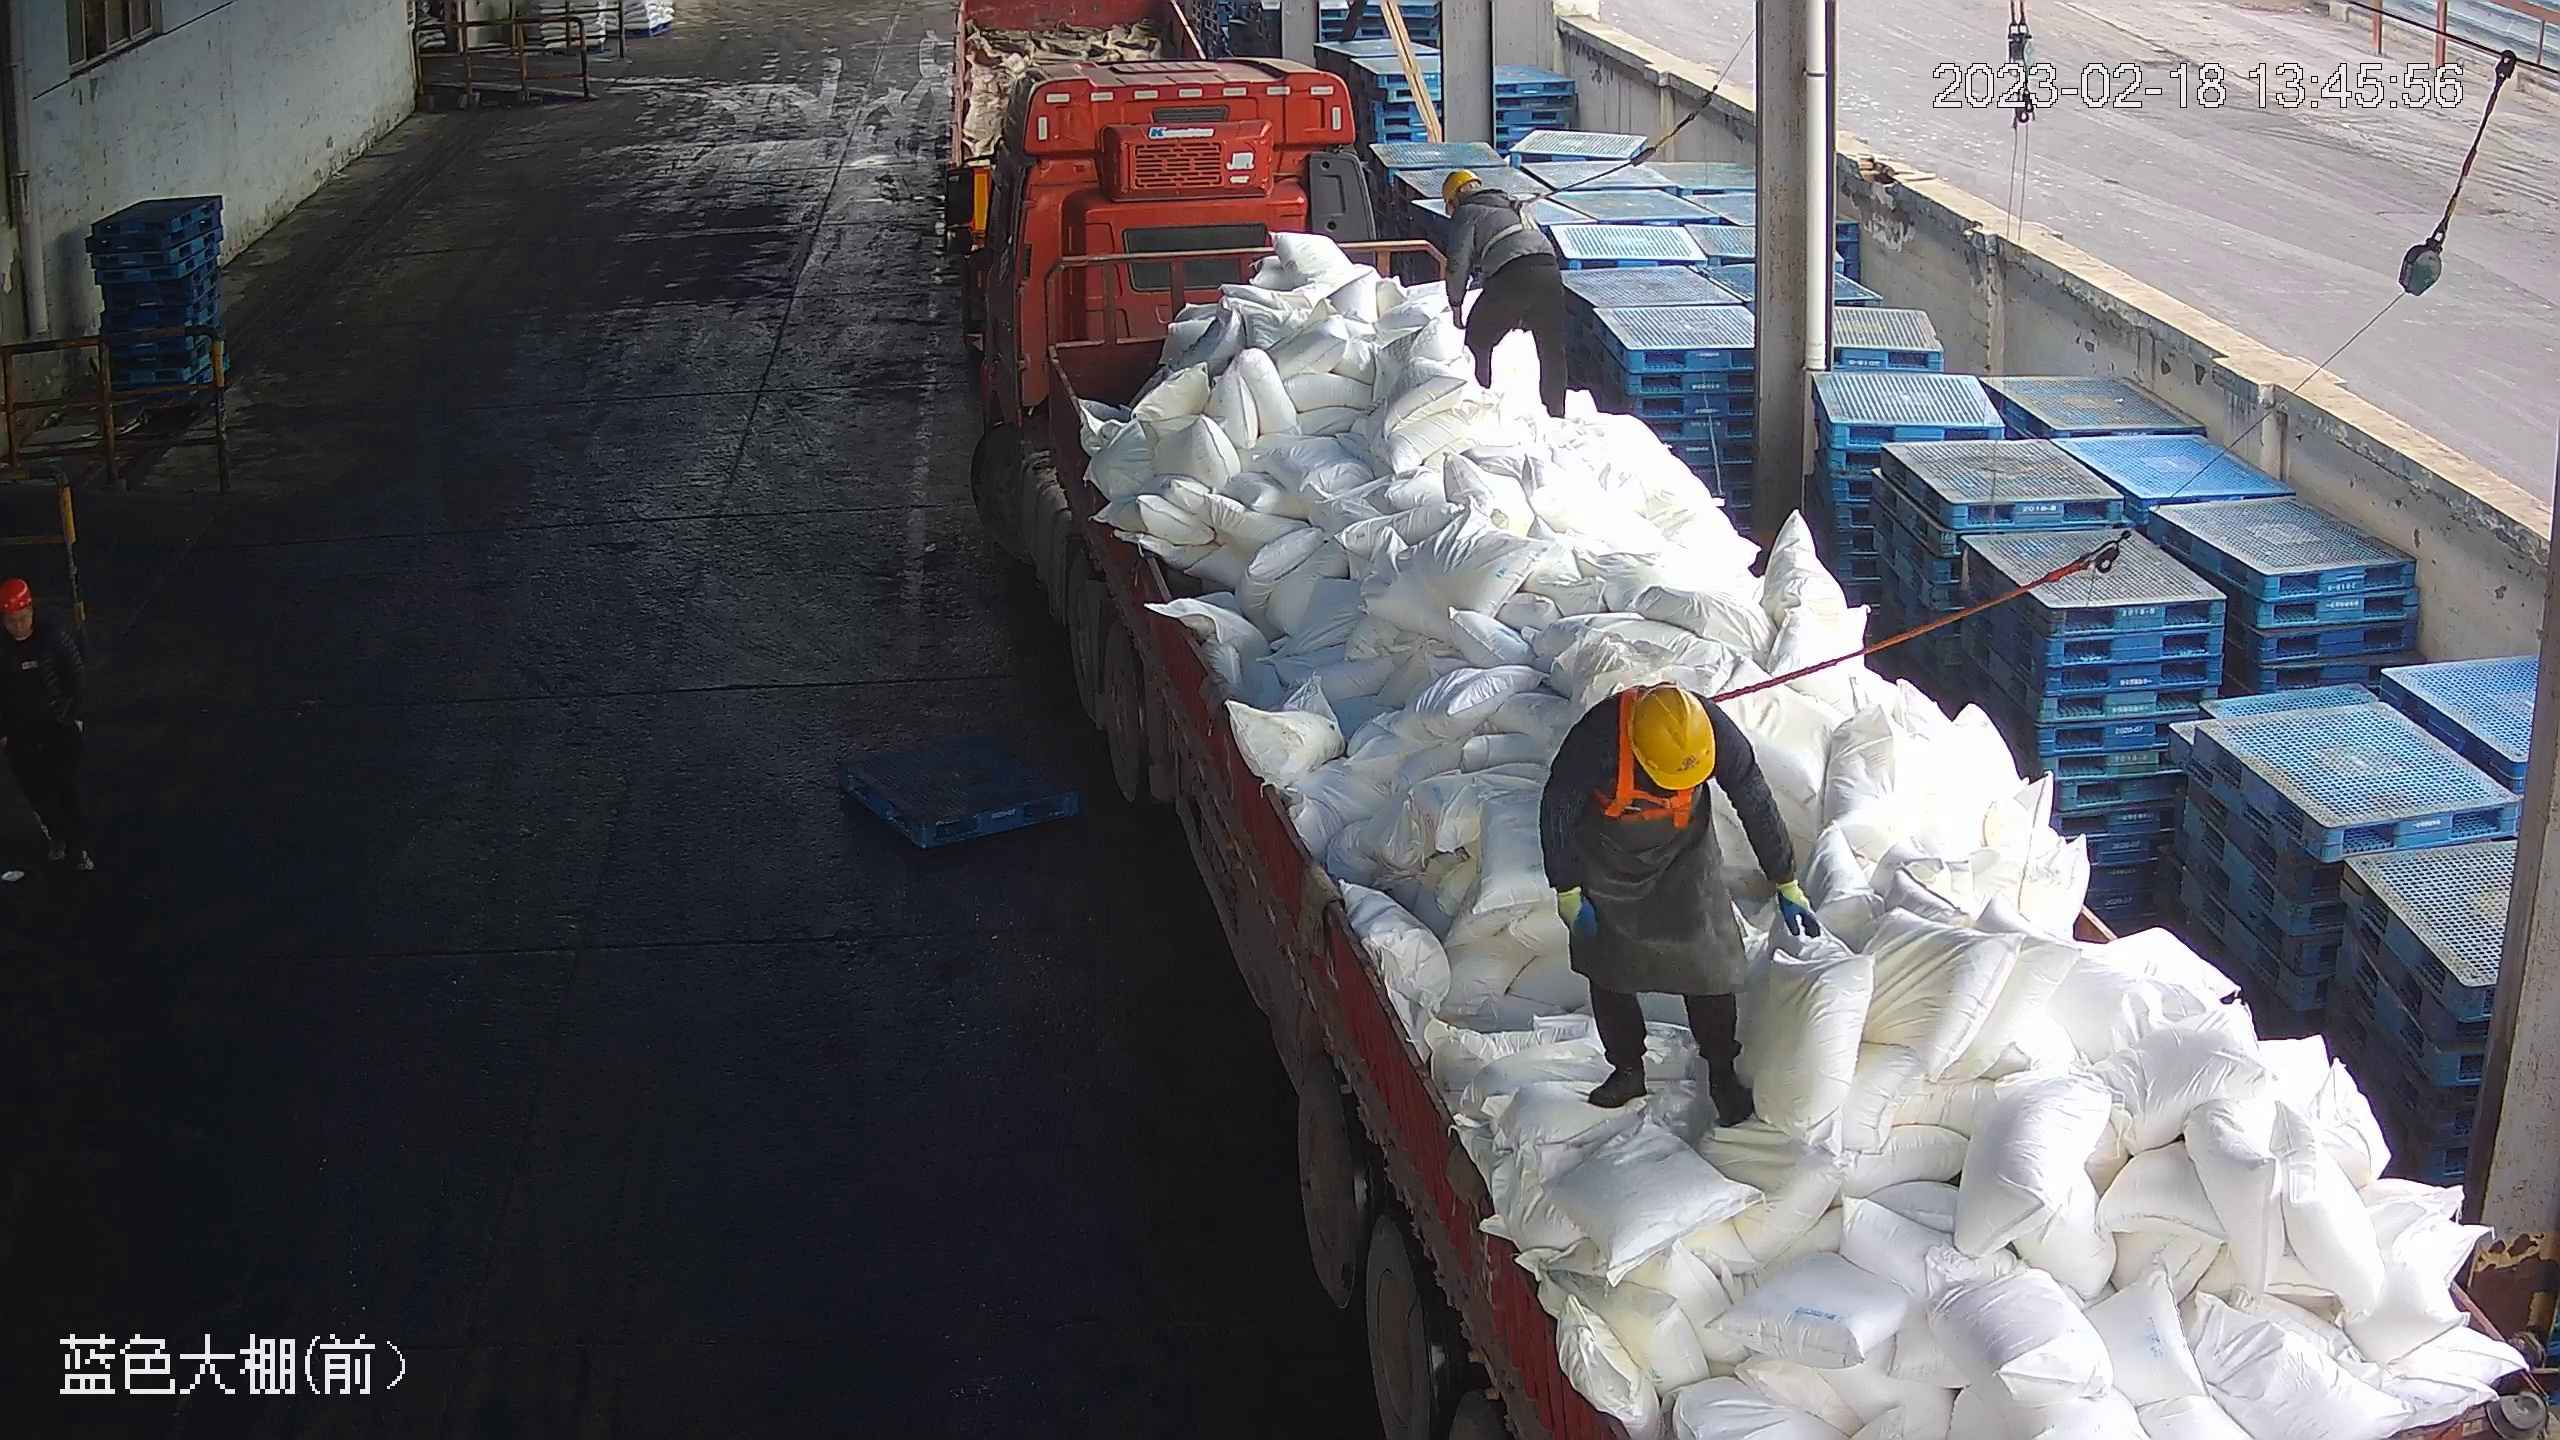belt: (1601, 687, 1714, 829), (1474, 185, 1545, 245)
head: (1558, 679, 1748, 822), (1, 578, 78, 679), (1444, 166, 1542, 230)
helmet: (1626, 683, 1717, 788), (1440, 166, 1482, 208), (2, 572, 36, 607)
people: (1537, 678, 1817, 1135), (1437, 165, 1582, 417), (1, 577, 99, 882)
truck: (943, 60, 2554, 1440)
